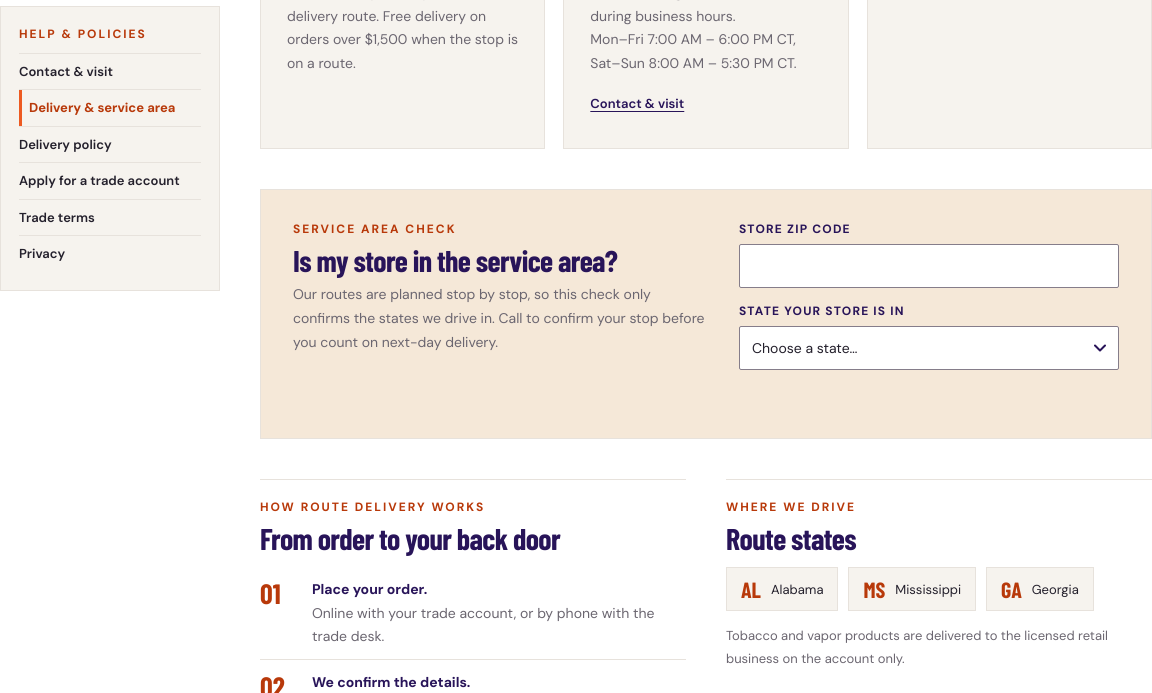
Scenario: DeliveryPage out-of-area answer › answers FL with the state, the route sentence, the phone and the contact page
The image size is (1152, 693).
(page scrolled)
Select "Florida" in the dropdown labelled "State your store is in". click: (929, 348)
box: left=739, top=326, right=1119, bottom=370
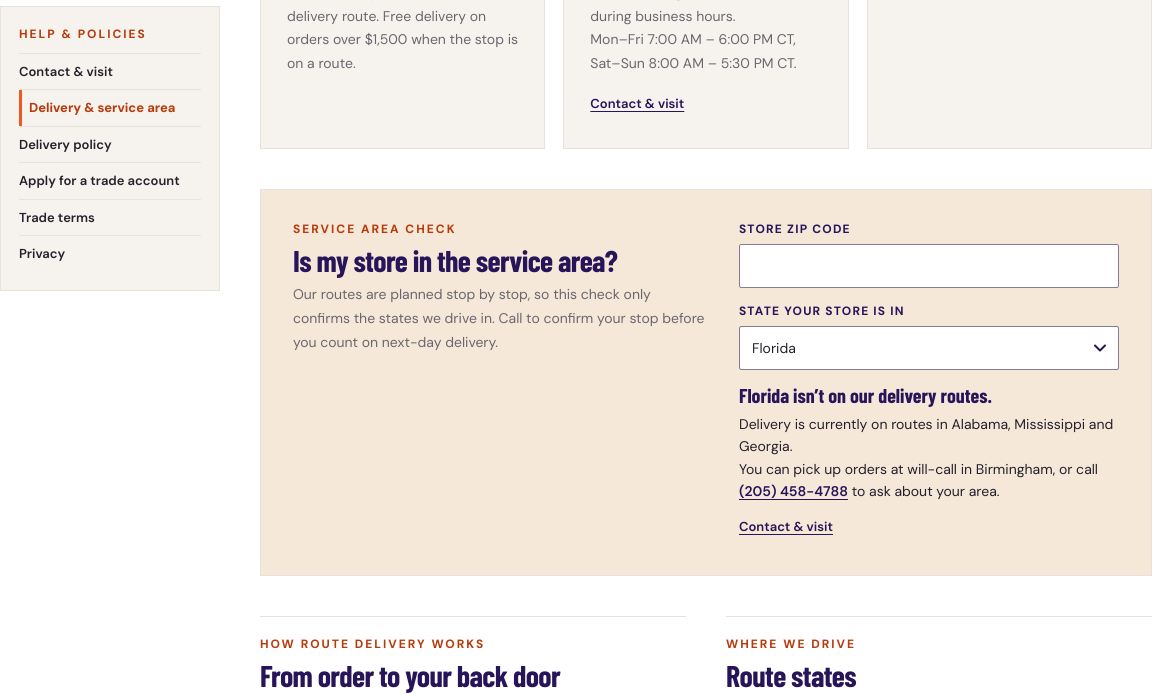
Check: the text "Florida isn’t on our delivery routes." is shown, box left=739, top=383, right=992, bottom=407
Check: the text "Delivery is currently on routes in Alabama, Mississippi and Georgia." is shown, box left=739, top=413, right=1119, bottom=458
